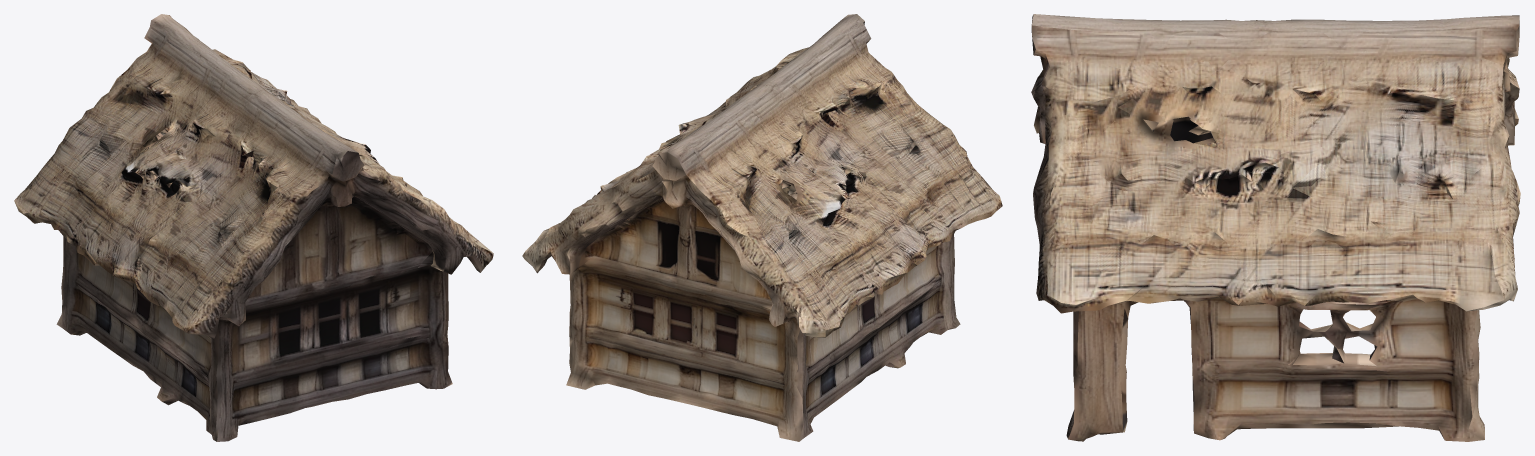
The model's file is peasant_house_c.glb.
3 views of the same model, side by side, from view 1: azimuth 30°, elevation 25°; view 2: azimuth 150°, elevation 25°; view 3: azimuth 270°, elevation 25° (orthographic). The views are drawn at different scales.
Parts seen in each view (by area): view 1: Thatched Hut; view 2: Thatched Hut; view 3: Thatched Hut.
Boxes of the visible parts, box(x1,y1,x2,y2) form: Thatched Hut: box(14, 14, 493, 441); Thatched Hut: box(522, 14, 1002, 441); Thatched Hut: box(1031, 14, 1520, 441).
Size of the model in its own units: 3.49 by 3 by 3.7.
1 material, 1 textured.
